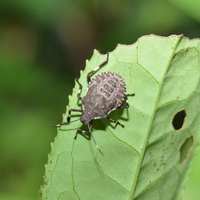insect: (52, 50, 134, 139)
